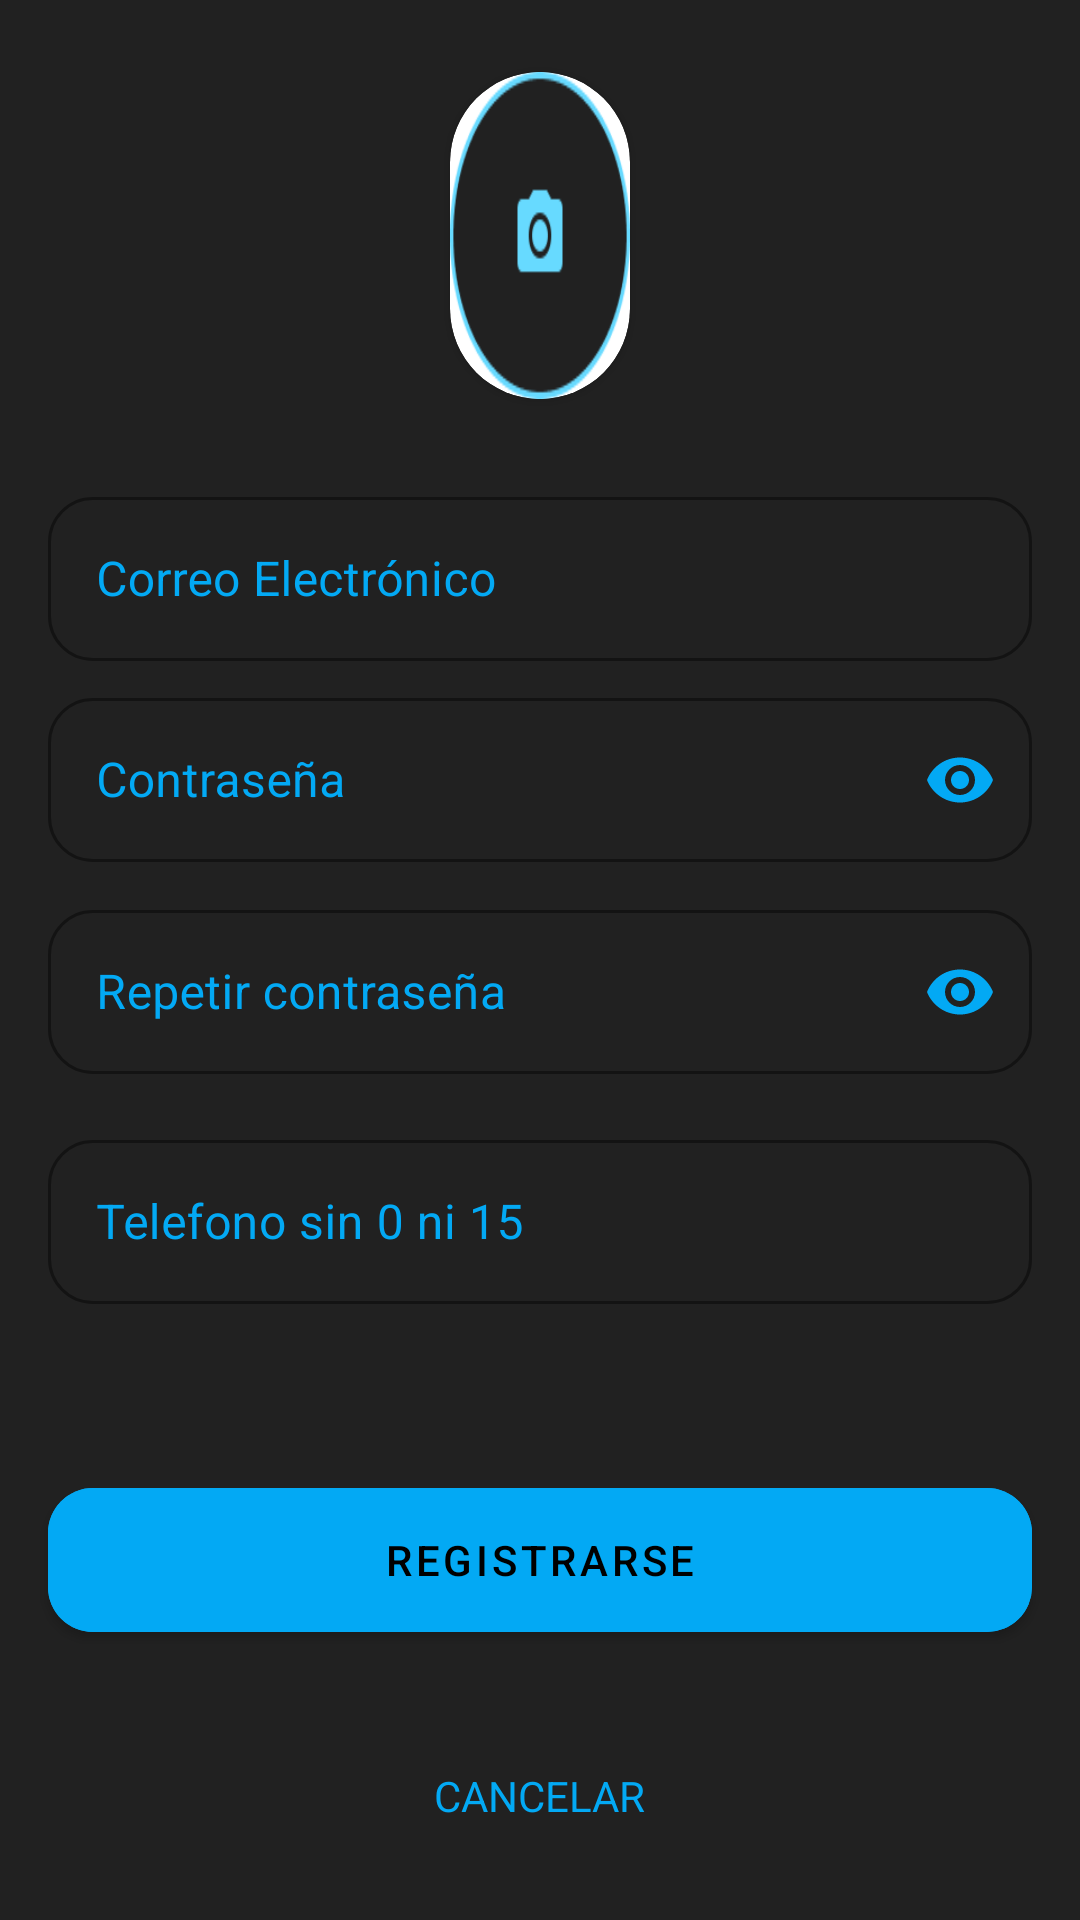

Named icons in this screenshot (1080x1920) and their bounding boxes, {"x1": x1, "y1": y1, "x2": x2, "y2": y2}:
perfil: {"x1": 450, "y1": 72, "x2": 630, "y2": 399}
